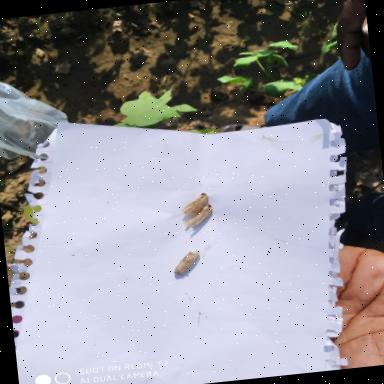abw: (174, 191, 214, 219), (180, 204, 218, 230), (170, 248, 204, 277)
